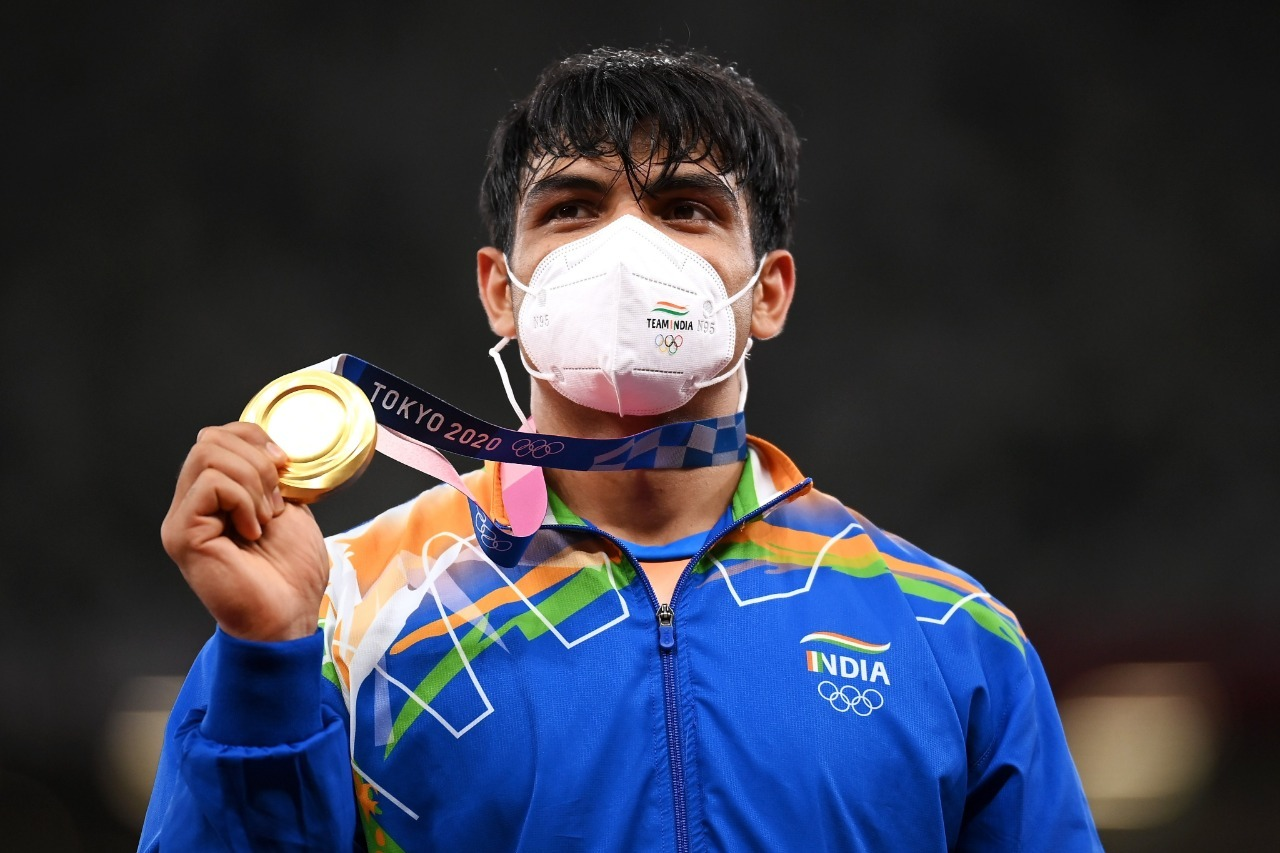with_mask: (517, 163, 746, 391)
